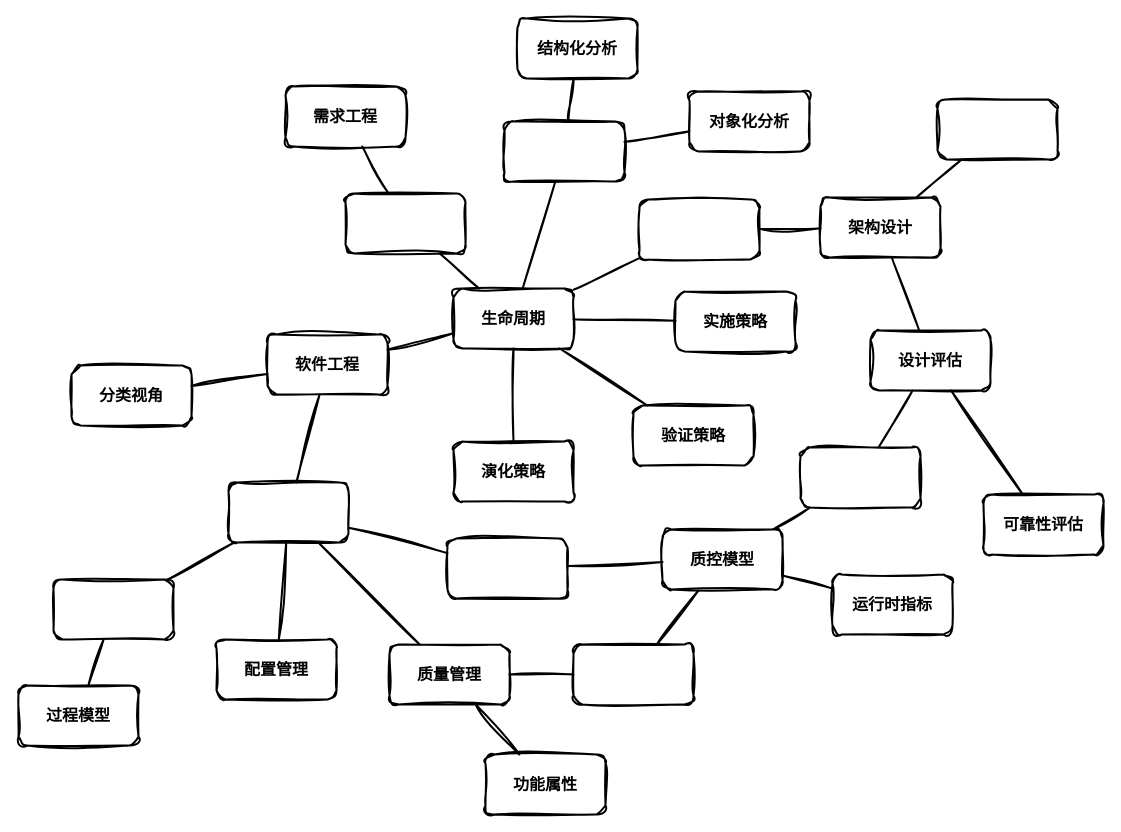
Image size: 1121x832. Some labels were removed from this diagram. The shapes that lost their labels are listed below. From the top down, each one's centre as x and y in pixels, then its label:
At point 997,129: "风格化设计".
At point 564,151: "分析策略".
At point 405,223: "调查策略".
At point 699,229: "设计策略".
At point 860,477: "设计时指标".
At point 288,512: "项目管理".
At point 507,568: "风险管理".
At point 113,609: "进度管理".
At point 633,674: "质量属性".
